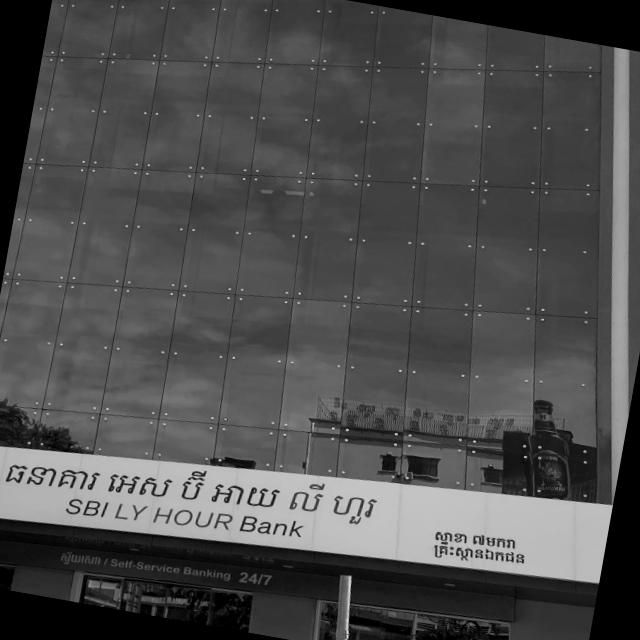1: (431, 527, 518, 549)
5: (0, 447, 383, 532)
672: (230, 566, 280, 591)
Yolov11_80vkh: (430, 543, 531, 567), (51, 545, 108, 573)
